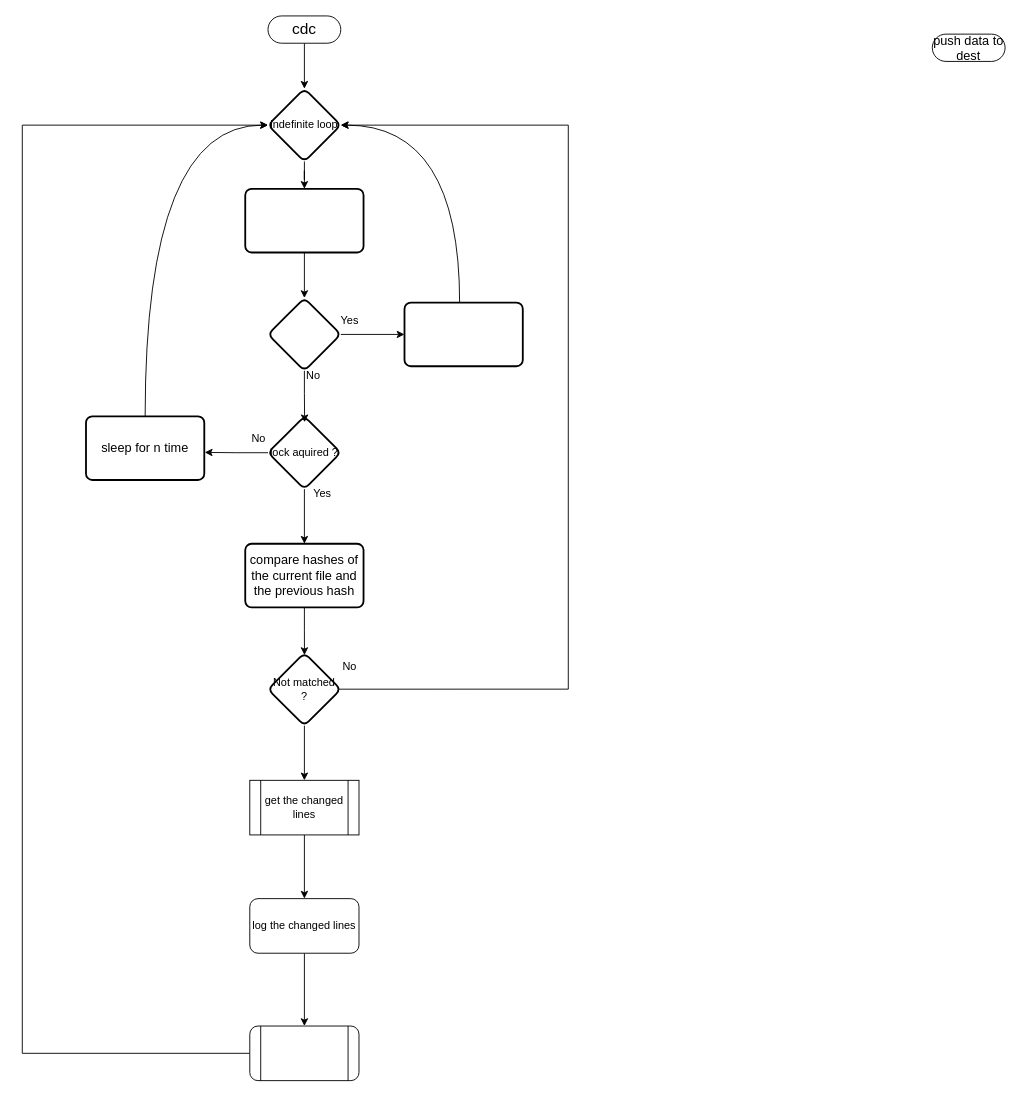
This 1021x1097 diagram has some shape labels left out. Each missing label, with the centre of its shape:
"acquire lock to the file" belongs at pixel 304 220.
"error occured ?" belongs at pixel 304 334.
"log the issue" belongs at pixel 463 334.
"push data to destination (queue)" belongs at pixel 304 1053.
